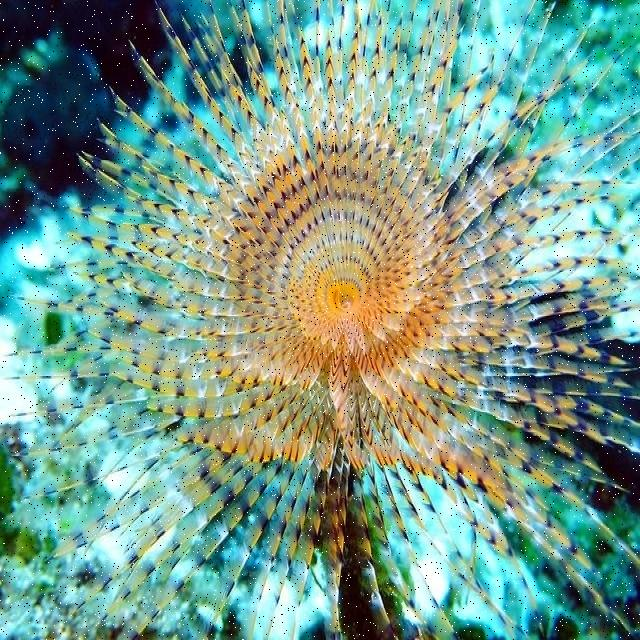reefs: (3, 0, 639, 639)
